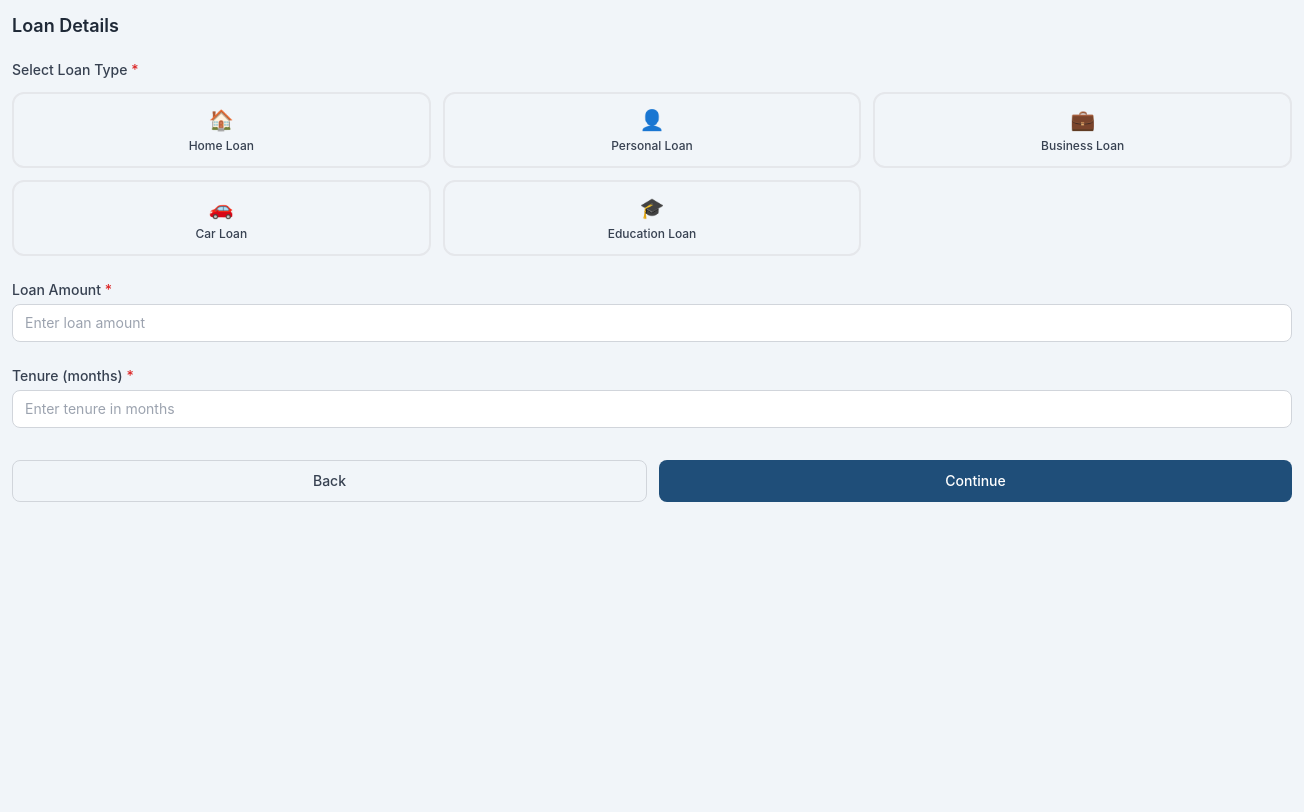
it: LoanDetails component › shows home loan interest rate of 8.5%
Click the radio button with test id "loan-type-home" at [221, 130], box [12, 92, 431, 168]
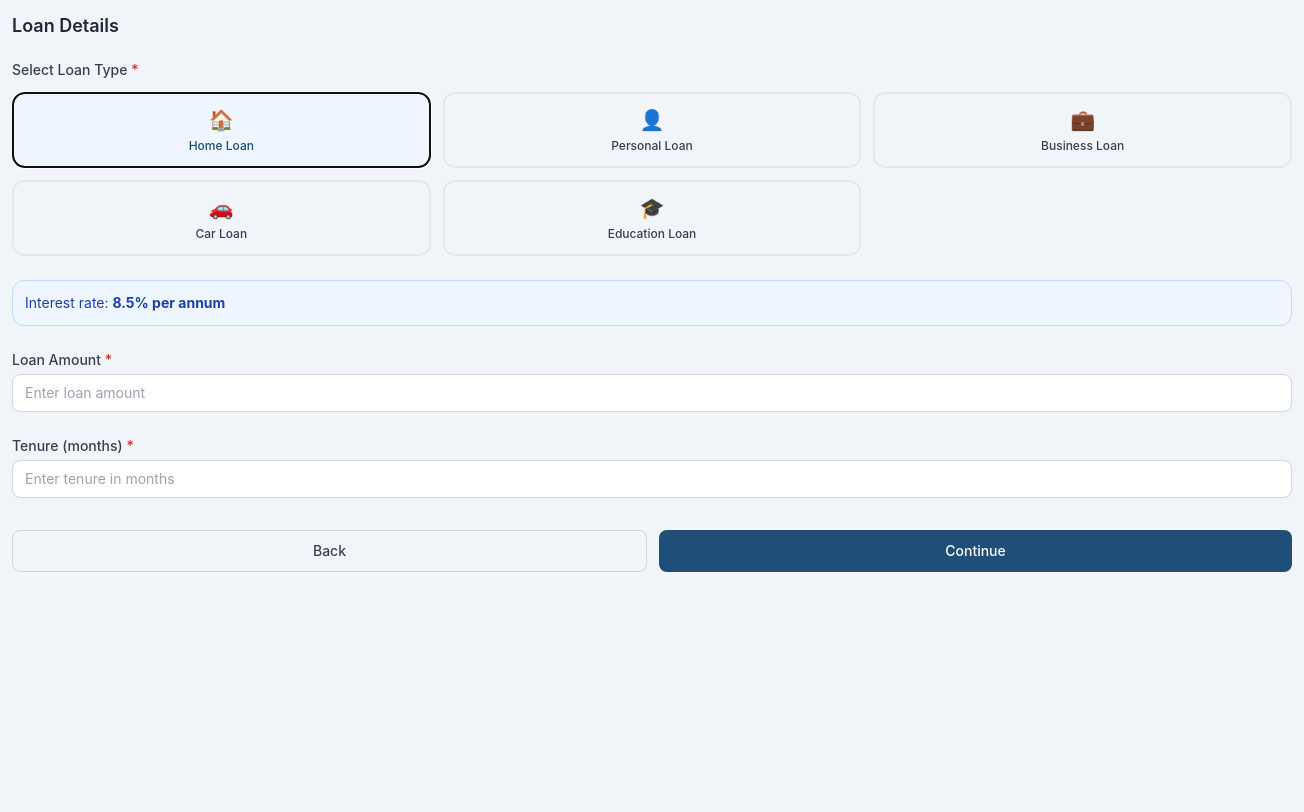
Expected: the text "8.5% per annum" is shown, [112, 294, 225, 311]
